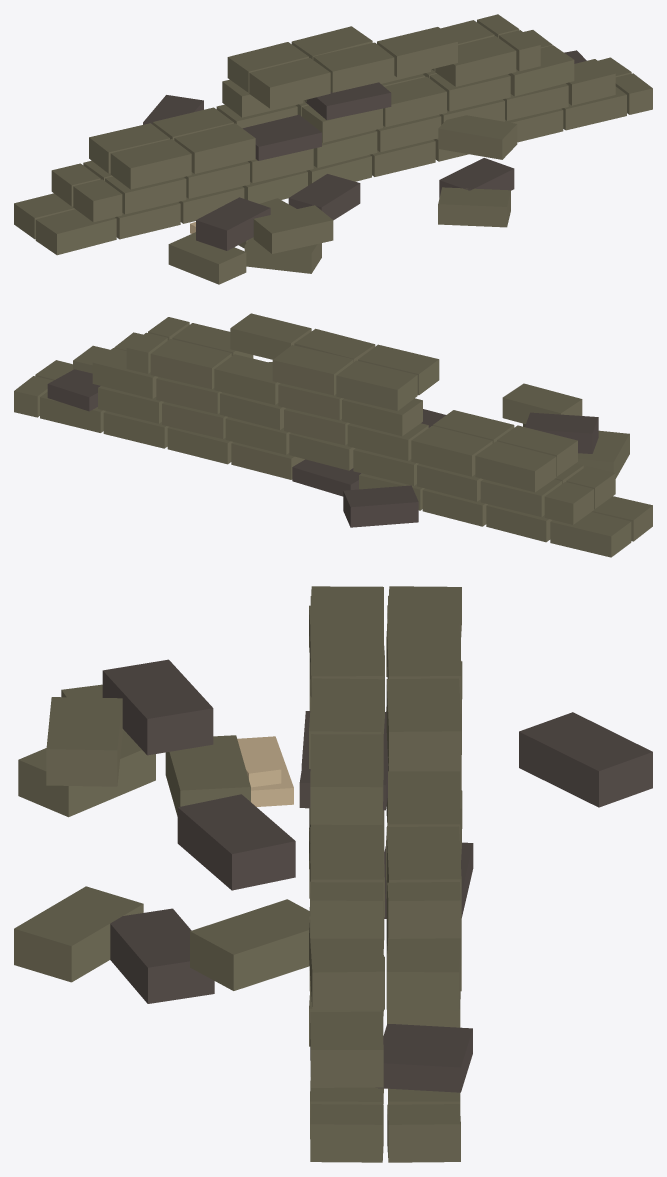
Rendered from SM_MuroSacos_v1_Talud_e1_Danado_LOD0.fbx.
3 renders of one model, top to bottom at view 1: azimuth 30°, elevation 25°; view 2: azimuth 150°, elevation 25°; view 3: azimuth 270°, elevation 25°, orthographic. The views are drawn at different scales.
Visible parts, largest first — view 1: SM_bloques.muro_sacos_estados_v5_LOD0; view 2: SM_bloques.muro_sacos_estados_v5_LOD0; view 3: SM_bloques.muro_sacos_estados_v5_LOD0.
Boxes of the visible parts, x1,y1,x2,y2 form: SM_bloques.muro_sacos_estados_v5_LOD0: (14,14,652,284); SM_bloques.muro_sacos_estados_v5_LOD0: (14,313,652,557); SM_bloques.muro_sacos_estados_v5_LOD0: (14,586,652,1162).
Bounding box in the file's own units: 7.97 × 1.49 × 4.14.
